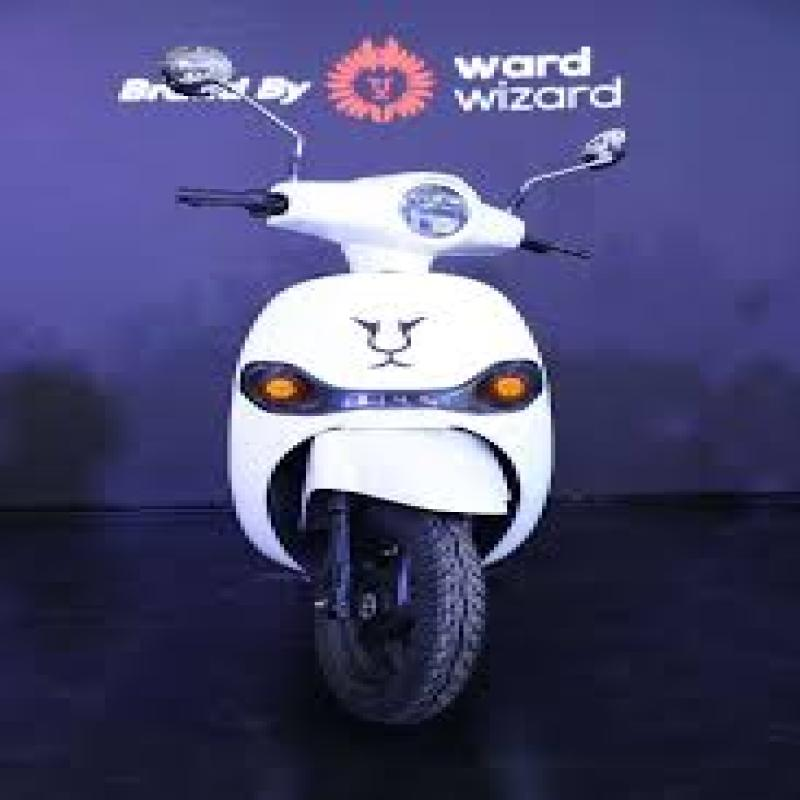bike: (152, 9, 647, 710)
